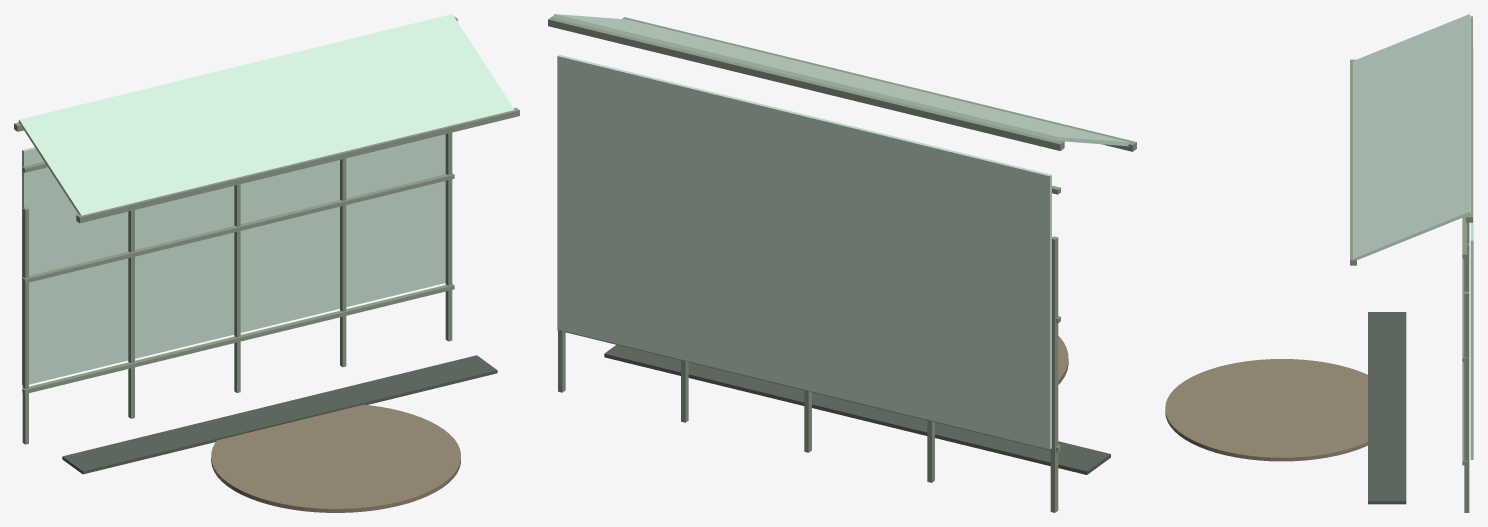
File: greenhouse_scene.glb
3 renders of one model, left to right at view 1: azimuth 30°, elevation 25°; view 2: azimuth 150°, elevation 25°; view 3: azimuth 270°, elevation 25°, orthographic. The views are drawn at different scales.
Visible parts, largest first — view 1: back_glass_panel, roof_glass, central_soil_bed, narrow_back_walkway, roof_front_beam, horizontal_frame_1.25, horizontal_frame_0.0, vertical_frame_-1.75, vertical_frame_3.25, vertical_frame_0.75, vertical_frame_-0.5, vertical_frame_2.0; view 2: back_glass_panel, roof_glass, narrow_back_walkway, roof_back_beam, vertical_frame_-1.75, roof_front_beam, horizontal_frame_0.0; view 3: roof_glass, central_soil_bed, narrow_back_walkway, vertical_frame_3.25, back_glass_panel, roof_front_beam, roof_back_beam.
Part boxes in pixels (<box>): back_glass_panel: <box>22,134,445,384</box>; roof_glass: <box>18,14,514,215</box>; central_soil_bed: <box>211,404,460,512</box>; narrow_back_walkway: <box>62,355,497,474</box>; roof_front_beam: <box>76,107,519,223</box>; horizontal_frame_1.25: <box>22,173,454,283</box>; horizontal_frame_0.0: <box>22,284,454,393</box>; vertical_frame_-1.75: <box>22,207,28,444</box>; vertical_frame_3.25: <box>445,132,452,341</box>; vertical_frame_0.75: <box>234,184,240,392</box>; vertical_frame_-0.5: <box>128,210,134,418</box>; vertical_frame_2.0: <box>340,158,346,367</box>; back_glass_panel: <box>557,54,1051,449</box>; roof_glass: <box>553,14,1130,146</box>; narrow_back_walkway: <box>604,345,1110,474</box>; roof_back_beam: <box>548,16,1064,150</box>; vertical_frame_-1.75: <box>1050,236,1058,512</box>; roof_front_beam: <box>622,17,1136,151</box>; horizontal_frame_0.0: <box>557,329,1060,452</box>; roof_glass: <box>1353,14,1470,259</box>; central_soil_bed: <box>1165,359,1367,461</box>; narrow_back_walkway: <box>1368,312,1406,504</box>; vertical_frame_3.25: <box>1464,291,1469,512</box>; back_glass_panel: <box>1470,47,1473,459</box>; roof_front_beam: <box>1350,59,1356,265</box>; roof_back_beam: <box>1466,16,1472,222</box>.
Size of what is drawn, in the model's own units: 5.2 by 3.66 by 3.38.
